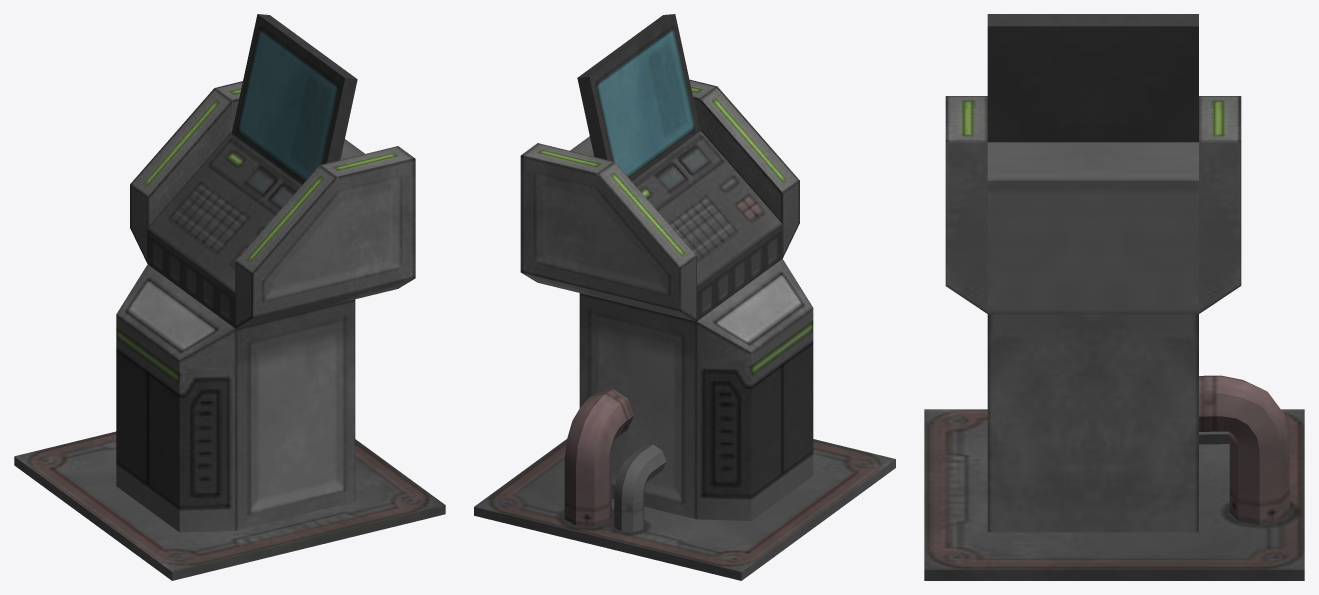
The model's file is lab_terminal.gltf.
3 renders of one model, left to right at view 1: azimuth 30°, elevation 25°; view 2: azimuth 150°, elevation 25°; view 3: azimuth 270°, elevation 25°, orthographic. The views are drawn at different scales.
Visible parts, largest first — view 1: terminal.001; view 2: terminal.001; view 3: terminal.001.
Boxes of the visible parts, x1,y1,x2,y2 form: terminal.001: [14, 14, 445, 580]; terminal.001: [474, 14, 895, 580]; terminal.001: [924, 14, 1304, 580].
Bounding box in the file's own units: 3.03 × 4.64 × 3.03.
1 material, 1 textured.
